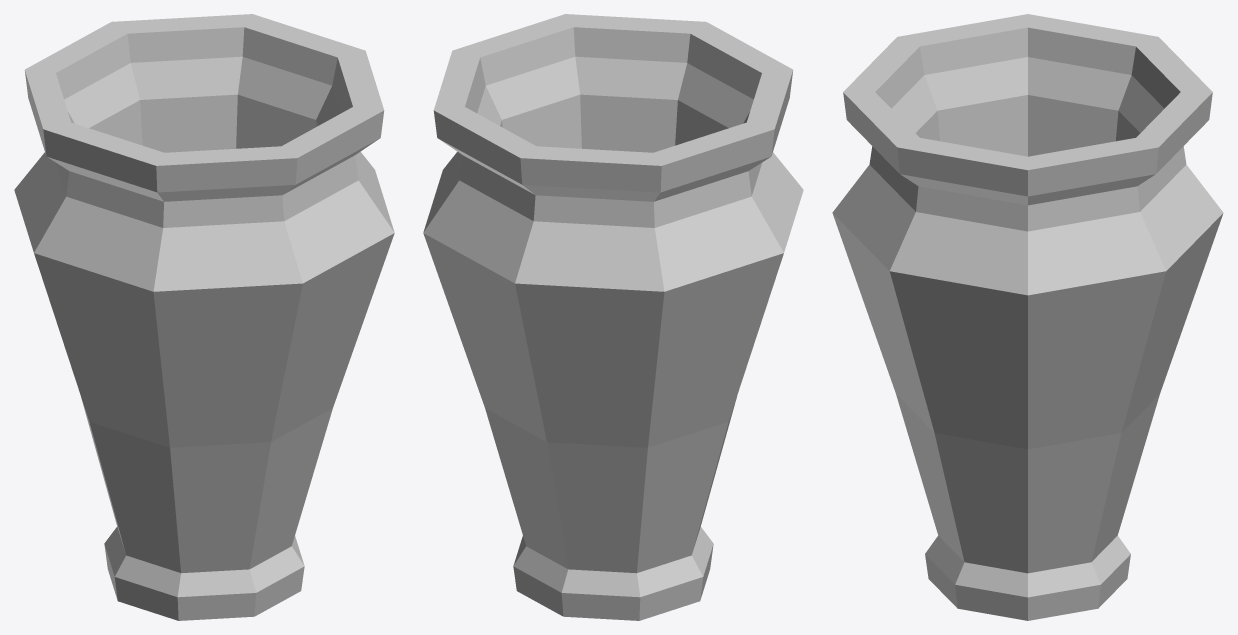
The model's file is Vase.glb.
3 views of the same model, side by side, from view 1: azimuth 30°, elevation 25°; view 2: azimuth 150°, elevation 25°; view 3: azimuth 270°, elevation 25° (orthographic).
Visible parts, largest first — view 1: Vase; view 2: Vase; view 3: Vase.
Part boxes in pixels (x1,y1,x2,y2): Vase: (14,14,394,620); Vase: (423,14,803,620); Vase: (832,14,1223,620).
Bounding box in the file's own units: 0.2286 × 0.3138 × 0.2286.
1 material, 1 textured.
